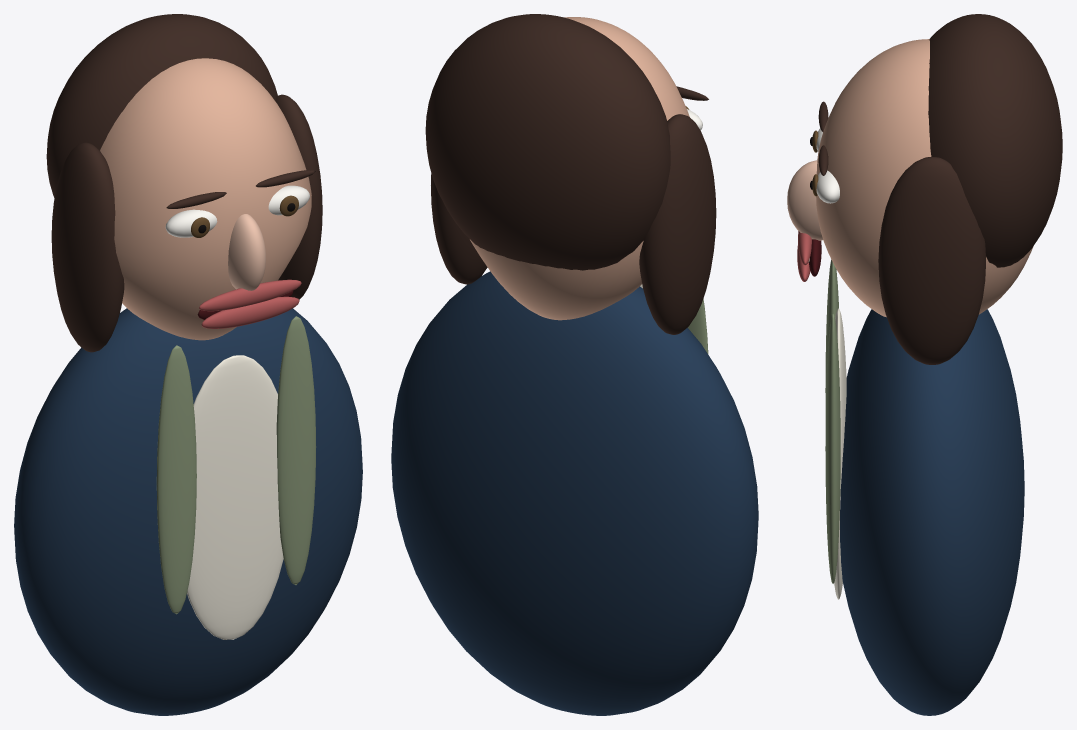
File: AURA_RealTime_Avatar.glb
3 views of the same model, side by side, from view 1: azimuth 30°, elevation 25°; view 2: azimuth 150°, elevation 25°; view 3: azimuth 270°, elevation 25° (orthographic). The views are drawn at different scales.
Parts seen in each view (by area): view 1: Torso, Head, IvoryBlouse, HairCap, LeftHairWave, OliveLapelLeft, OliveLapelRight, RightHairWave, Nose, LowerLip, UpperLip, LeftEye (+1 smaller); view 2: Torso, HairCap, LeftHairWave, Head, RightHairWave; view 3: Torso, HairCap, Head, RightHairWave, OliveLapelRight, Nose, IvoryBlouse, OliveLapelLeft, RightEye.
Part boxes in pixels (x1=…): Torso: x1=14, y1=308, x2=362, y2=715; Head: x1=100, y1=58, x2=311, y2=340; IvoryBlouse: x1=187, y1=355, x2=283, y2=639; HairCap: x1=46, y1=14, x2=277, y2=197; LeftHairWave: x1=51, y1=142, x2=124, y2=352; OliveLapelLeft: x1=156, y1=345, x2=196, y2=614; OliveLapelRight: x1=276, y1=316, x2=316, y2=584; RightHairWave: x1=275, y1=94, x2=322, y2=299; Nose: x1=228, y1=214, x2=265, y2=290; LowerLip: x1=201, y1=296, x2=299, y2=328; UpperLip: x1=199, y1=279, x2=301, y2=311; LeftEye: x1=165, y1=209, x2=217, y2=237; Torso: x1=391, y1=271, x2=758, y2=715; HairCap: x1=425, y1=14, x2=670, y2=270; LeftHairWave: x1=639, y1=114, x2=716, y2=334; Head: x1=470, y1=17, x2=689, y2=320; RightHairWave: x1=431, y1=173, x2=487, y2=284; Torso: x1=840, y1=309, x2=1024, y2=715; HairCap: x1=928, y1=14, x2=1062, y2=267; Head: x1=816, y1=39, x2=1033, y2=317; RightHairWave: x1=878, y1=157, x2=985, y2=364; OliveLapelRight: x1=825, y1=314, x2=840, y2=583; Nose: x1=787, y1=160, x2=823, y2=240; IvoryBlouse: x1=834, y1=308, x2=846, y2=599; OliveLapelLeft: x1=825, y1=259, x2=838, y2=410; RightEye: x1=816, y1=170, x2=839, y2=203.
Bounding box in the file's own units: 1.44 × 2.74 × 1.01.
